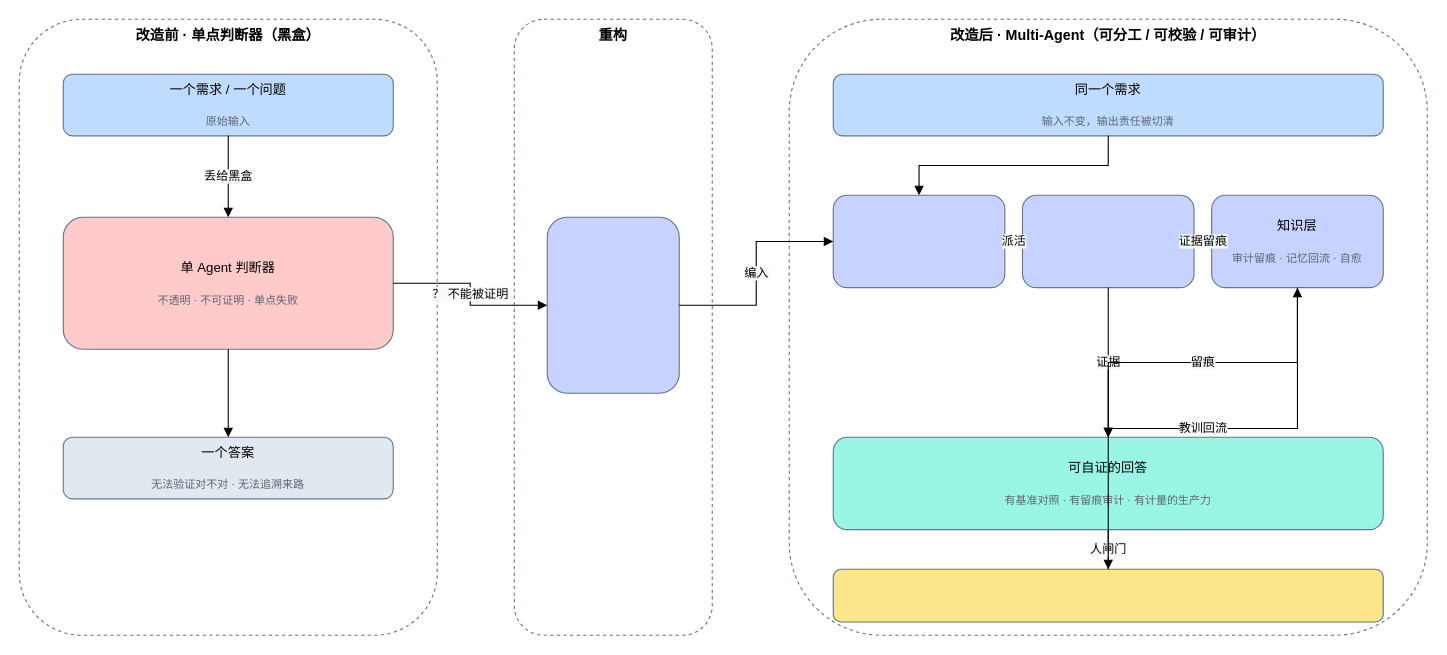
Some shapes in this 1447 by 655 pixel diagram are drawn without their labels. The shapes that lost their labels are listed below. From the top down, each one's centre as x and y in pixels, then its label:
At point 918,241: "调度层 路由 · 责任切分 · 门禁".
At point 1107,241: "执行层 专项角色 · 对抗决策 · 基准校验".
At point 612,304: "切分 分工 约束求解选型 · 路由到角色".
At point 1107,595: "人只在决策点介入（HITL），反馈回流闭环 不是看客，也不是兜底".
